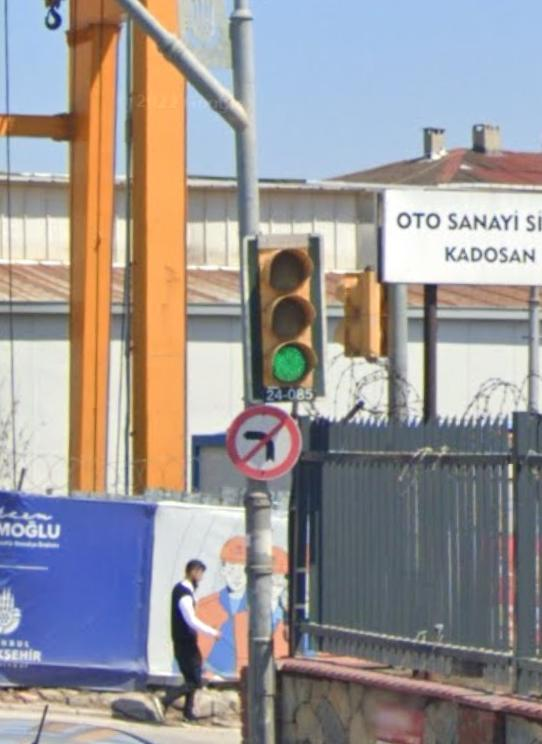greenlight: (246, 236, 318, 387)
leftturnsareforbidden: (226, 406, 302, 478)
